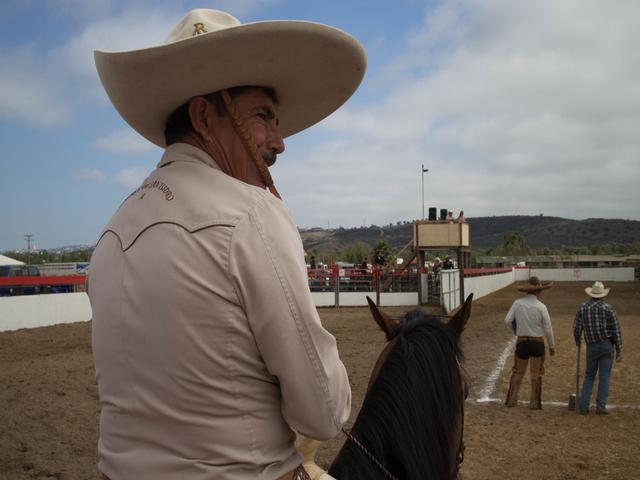horse: (325, 272, 506, 472)
